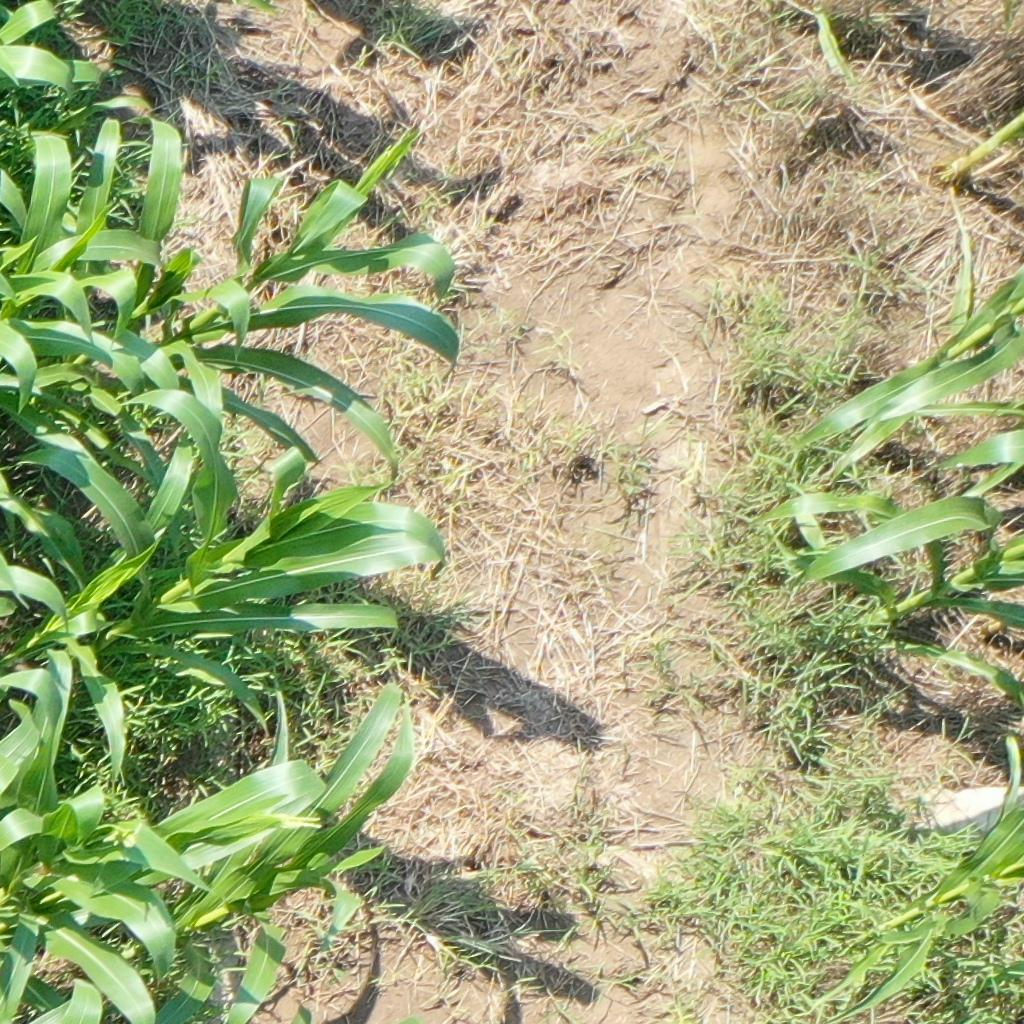Tassel: (261, 801, 325, 837), (97, 818, 145, 850)
